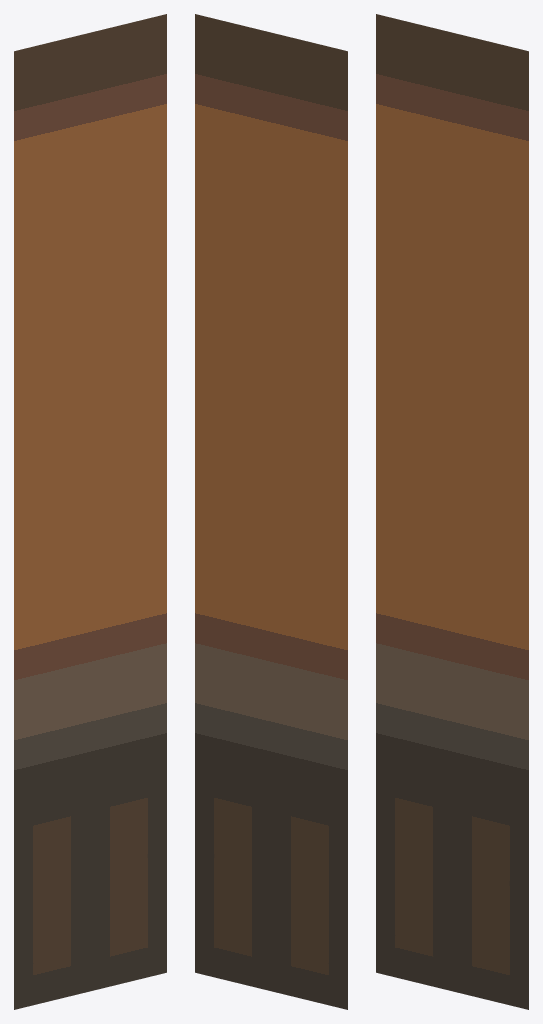
3 views of the same model, side by side, from view 1: azimuth 30°, elevation 25°; view 2: azimuth 150°, elevation 25°; view 3: azimuth 330°, elevation 25° (orthographic).
Size of the model in its own units: 0.5 by 3 by 0.
Materials: 1 (1 with a texture image).
